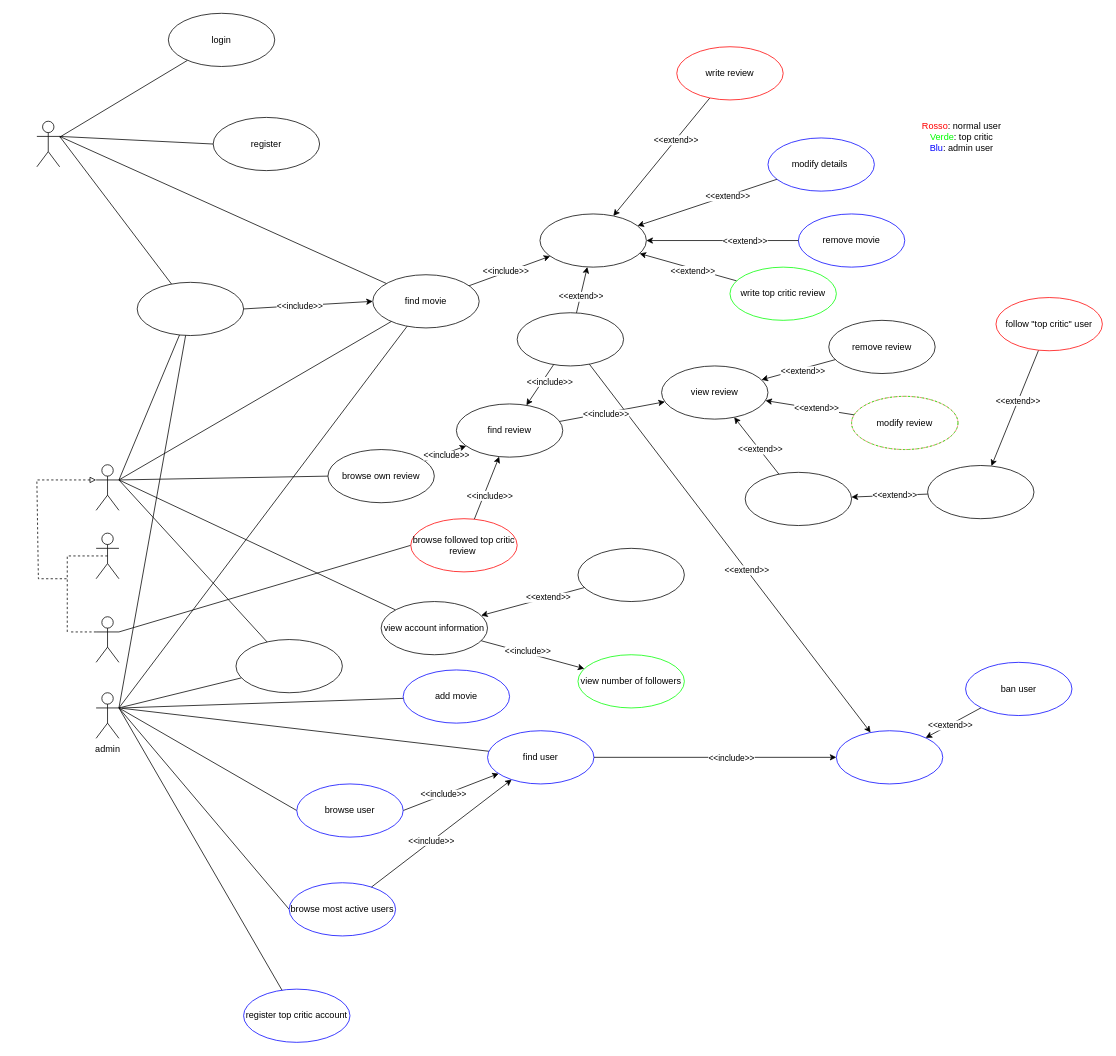
The diagram is 1116 pixels wide and 1056 high, and some of its shapes have lost their labels. The box of each missing label's shape, as (x1, y1, x2, y2) in pixels:
browse movie: (136, 282, 244, 336)
browse review: (516, 312, 624, 366)
find top critic user: (744, 472, 852, 526)
logout: (235, 639, 342, 693)
modify account information: (577, 548, 684, 602)
normal: (95, 616, 119, 662)
registered user: (95, 464, 119, 510)
top critic: (95, 532, 119, 579)
unregistered user: (36, 120, 60, 167)
view movie: (539, 213, 646, 267)
view top critic user: (927, 465, 1034, 519)
view user: (836, 730, 943, 784)
